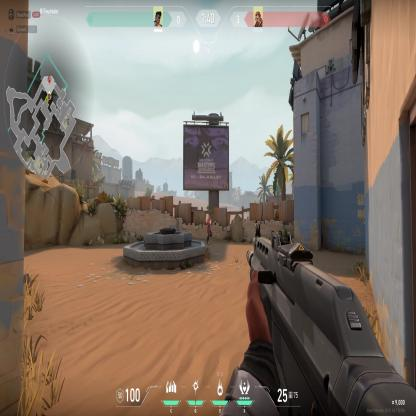enemy: (206, 216, 212, 245)
